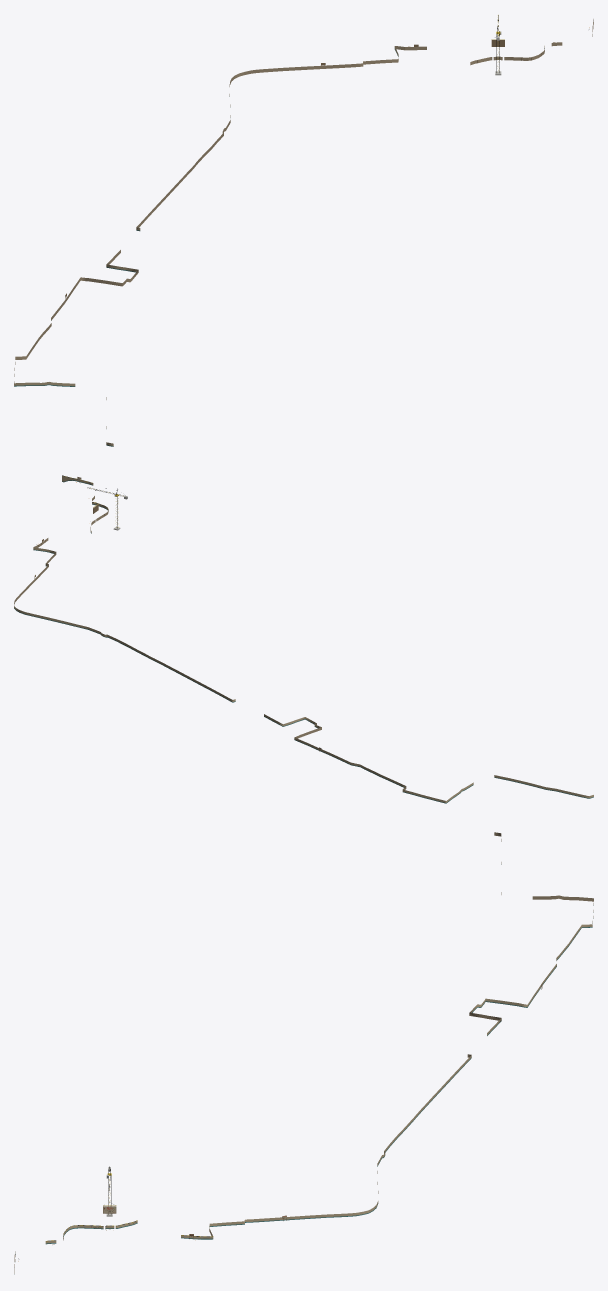
Rendered from ioa-construction.glb.
3 renders of one model, top to bottom at view 1: azimuth 90°, elevation 25°; view 2: azimuth 150°, elevation 25°; view 3: azimuth 270°, elevation 25°, orthographic. The views are drawn at different scales.
Parts seen in each view (by area): view 1: ioa-construction-run-west-paint, ioa-construction-paint; view 2: ioa-construction-run-west-paint, ioa-construction-paint; view 3: ioa-construction-run-west-paint, ioa-construction-paint.
Part boxes in pixels (<box>): ioa-construction-run-west-paint: <box>14,46,398,446</box>; ioa-construction-paint: <box>395,15,593,72</box>; ioa-construction-run-west-paint: <box>14,547,593,803</box>; ioa-construction-paint: <box>34,475,125,547</box>; ioa-construction-run-west-paint: <box>209,832,593,1236</box>; ioa-construction-paint: <box>14,1166,213,1274</box>.
Size of the model in its own units: 690 by 40.84 by 391.
